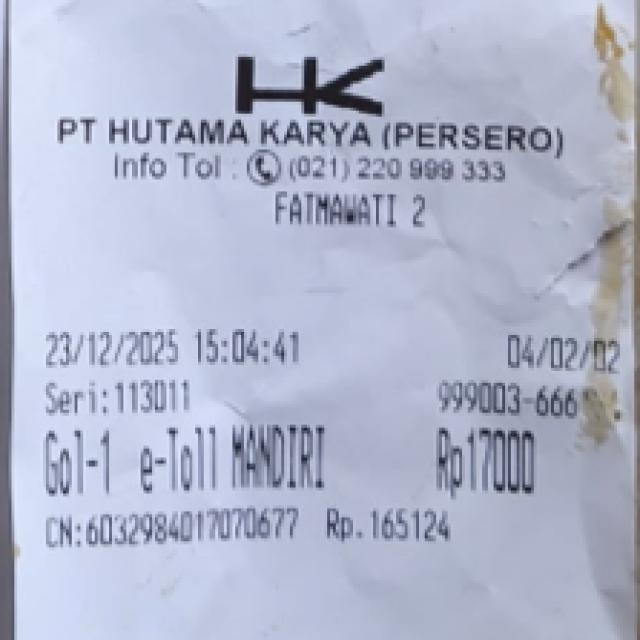date: (45, 324, 314, 366)
store: (49, 71, 570, 162)
total: (425, 426, 559, 498)
